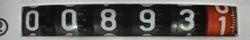digits: (213, 5, 232, 36), (60, 8, 78, 30), (177, 8, 195, 30), (138, 9, 155, 31), (100, 8, 116, 30), (25, 10, 39, 30)
